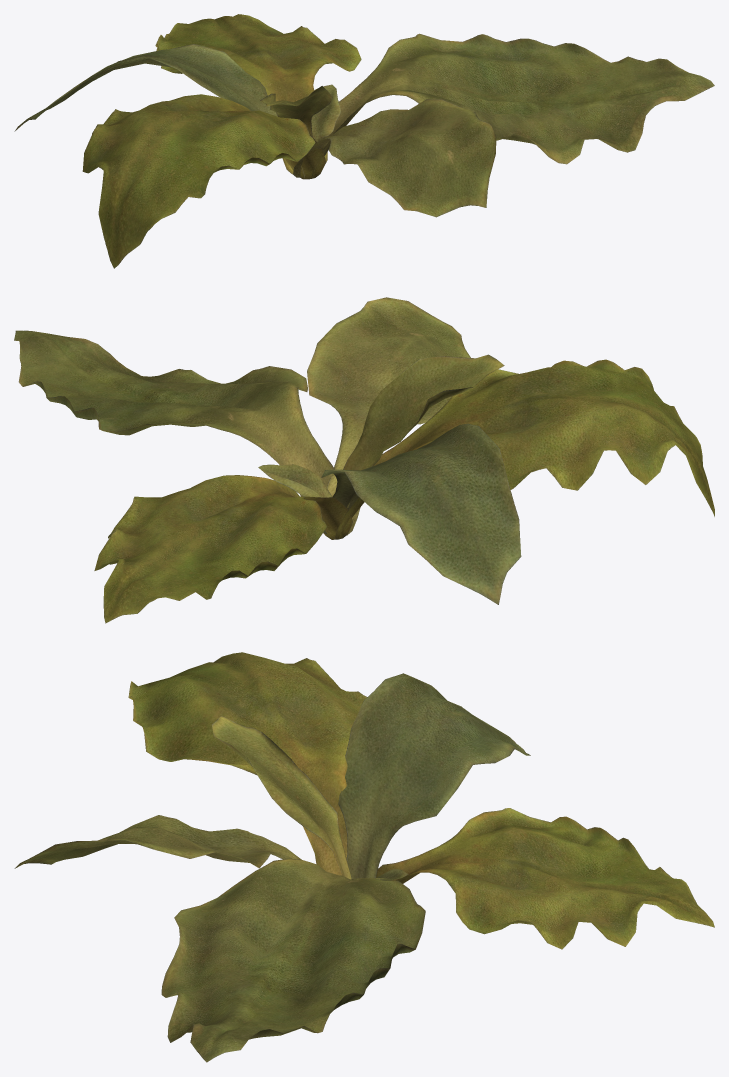
Rendered from crystalline_iceplant_02.glb.
3 views of the same model, one above another, from view 1: azimuth 30°, elevation 25°; view 2: azimuth 150°, elevation 25°; view 3: azimuth 270°, elevation 25° (orthographic). The views are drawn at different scales.
Parts seen in each view (by area): view 1: crystalline_iceplant; view 2: crystalline_iceplant; view 3: crystalline_iceplant.
Part boxes in pixels (bbox=[...]): crystalline_iceplant: bbox=[14, 14, 714, 268]; crystalline_iceplant: bbox=[14, 297, 714, 623]; crystalline_iceplant: bbox=[14, 652, 714, 1062].
Size of the model in its own units: 0.2674 by 0.0605 by 0.2275.
Materials: 1 (1 with a texture image).
